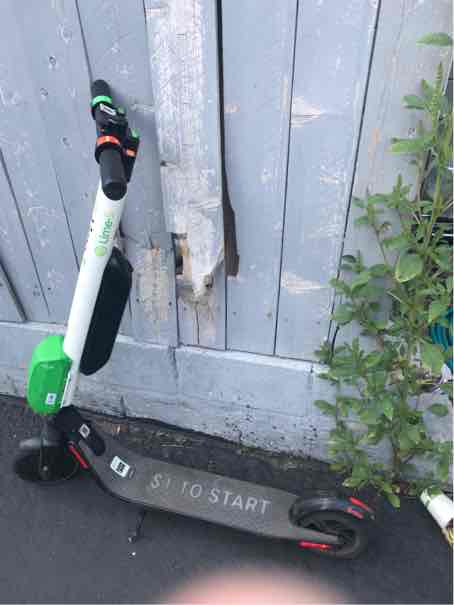scooter: (4, 72, 379, 571)
